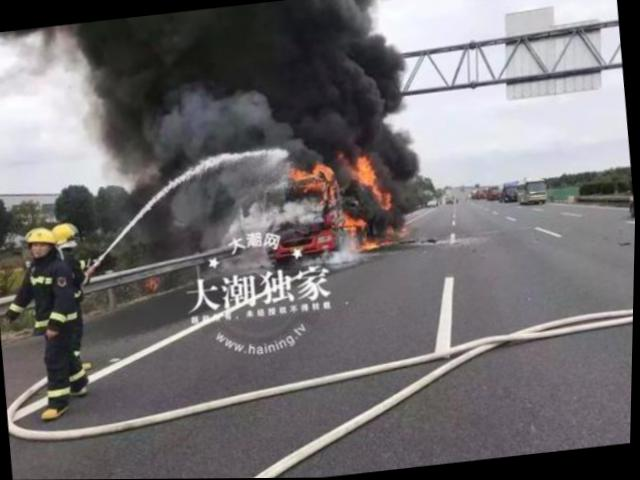fire: (277, 147, 400, 260)
